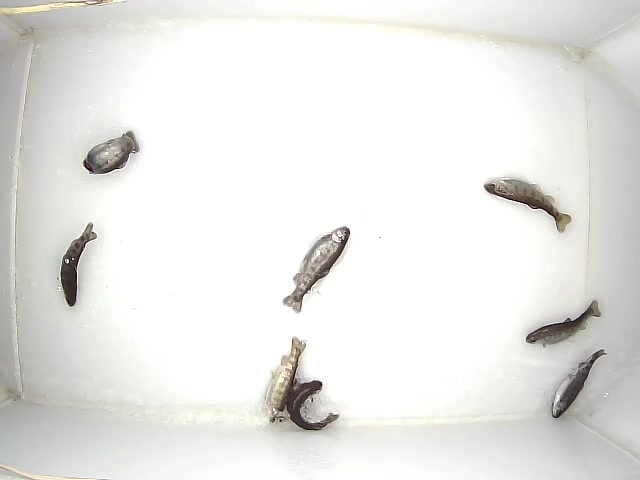fish: (282, 226, 350, 314), (483, 177, 572, 233), (263, 336, 307, 430), (551, 349, 607, 418), (526, 299, 602, 348), (61, 222, 97, 307), (287, 380, 340, 431), (83, 130, 140, 174)
